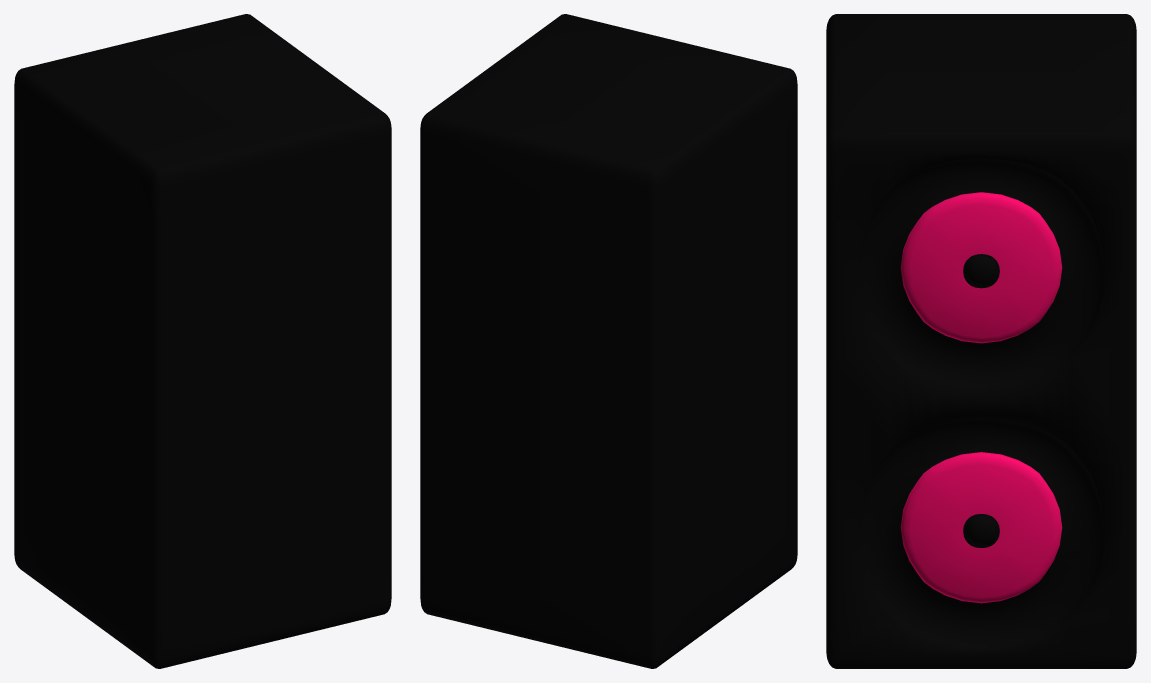
The model's file is LessSwaggyBox.fbx.
3 renders of one model, left to right at view 1: azimuth 30°, elevation 25°; view 2: azimuth 150°, elevation 25°; view 3: azimuth 270°, elevation 25°, orthographic. The views are drawn at different scales.
Visible parts, largest first — view 1: Box; view 2: Box; view 3: Box.
Boxes of the visible parts, x1,y1,x2,y2 form: Box: [14, 14, 391, 668]; Box: [420, 14, 797, 668]; Box: [826, 14, 1136, 668].
Bounding box in the file's own units: 200 × 400 × 209.
